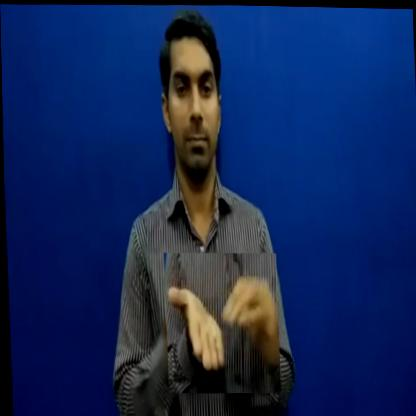ExcuseMe: (163, 250, 279, 394)
